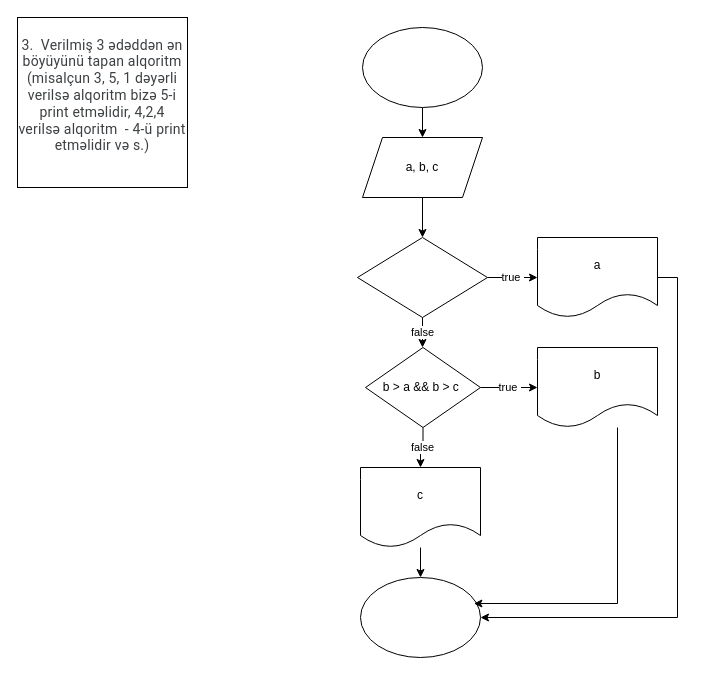
Some shapes in this 703 by 675 pixel diagram are drawn without their labels. Here are the shapes that lost their labels. From the top down, the centre of each, then its label:
At (422,67): "Start".
At (422,277): "a > b && a > c".
At (420,617): "End".
